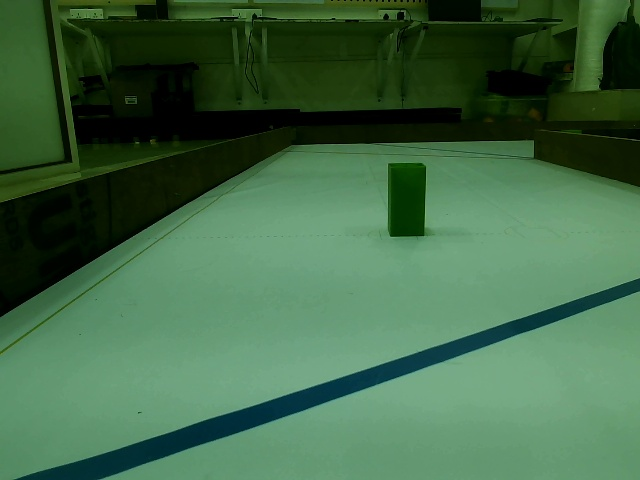green: (390, 163, 427, 235)
